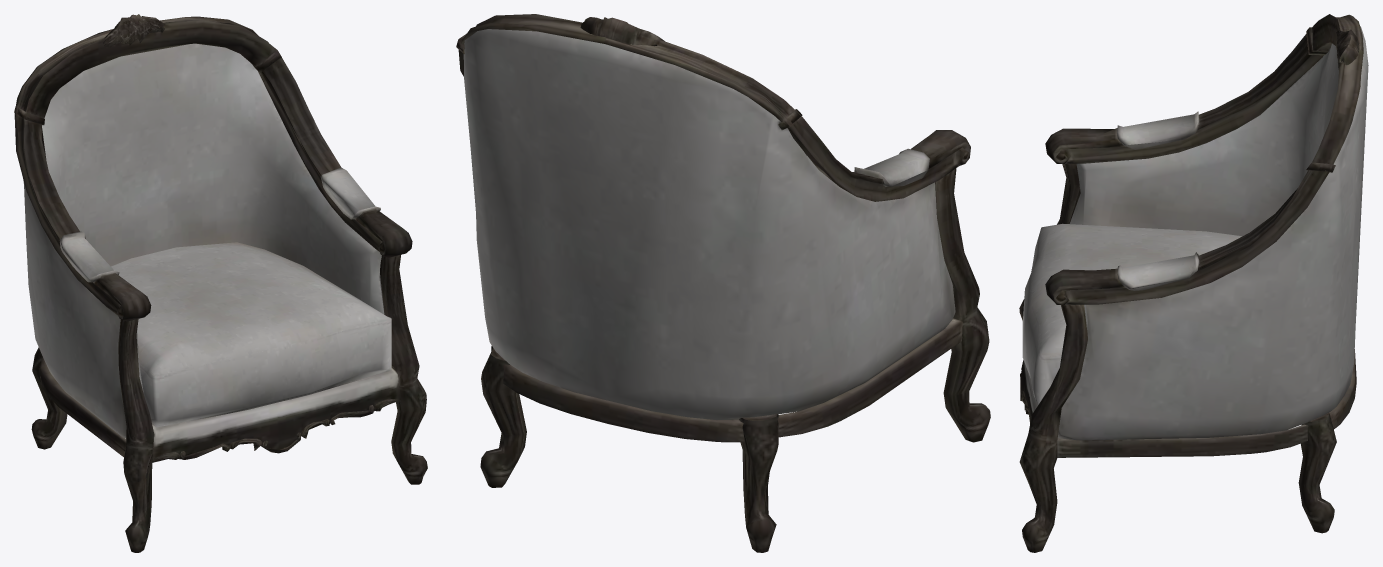
The model's file is ArmChair_01.glb.
The picture shows the model from 3 angles, left to right: view 1: azimuth 30°, elevation 25°; view 2: azimuth 150°, elevation 25°; view 3: azimuth 270°, elevation 25°; orthographic projection. The views are drawn at different scales.
Parts seen in each view (by area): view 1: ArmChair_01; view 2: ArmChair_01; view 3: ArmChair_01.
Part boxes in pixels (x1,y1,x2,y2): ArmChair_01: [14, 14, 427, 552]; ArmChair_01: [456, 14, 990, 552]; ArmChair_01: [1019, 14, 1368, 552].
Size of the model in its own units: 0.8483 by 1.06 by 0.7658.
1 material, 1 textured.
